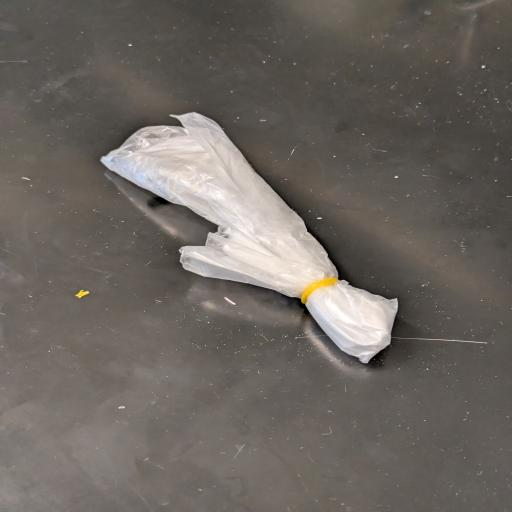rubberband: (96, 110, 406, 368)
